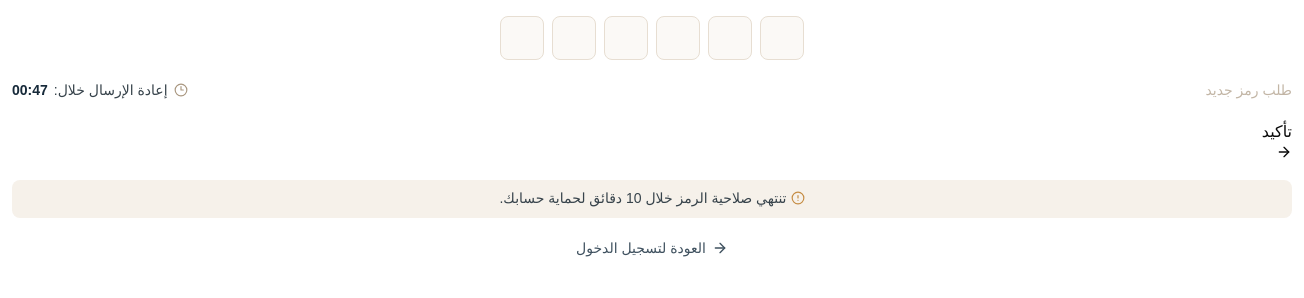
it: OtpVerificationForm › shows validation feedback for an incomplete OTP
Click the button "تأكيد": (1277, 140) x1=1262 y1=120 x2=1292 y2=160
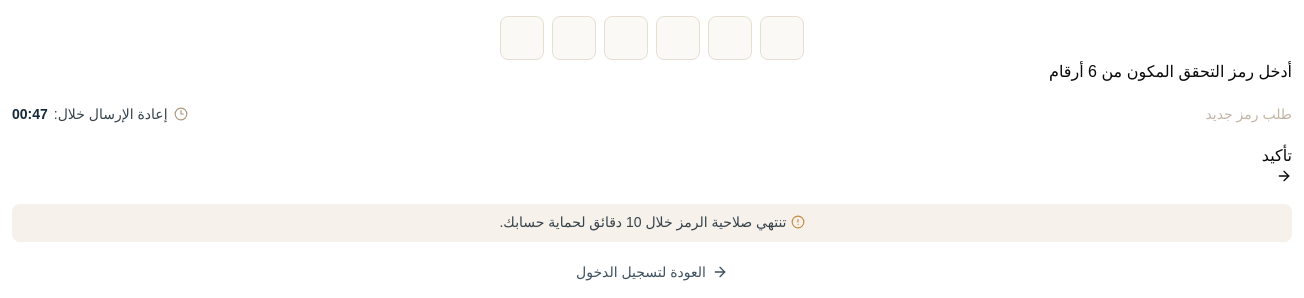
Check: the text "أدخل رمز التحقق المكون من 6 أرقام" is shown, box x1=1049 y1=63 x2=1292 y2=80
